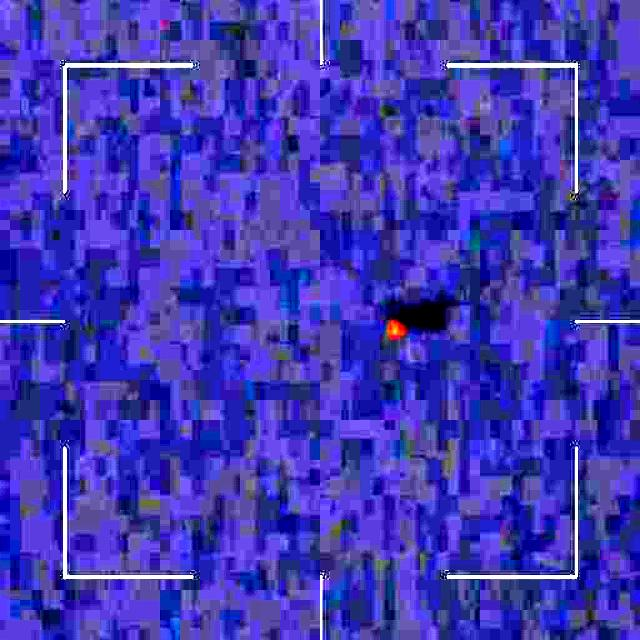bird: (379, 310, 411, 355)
